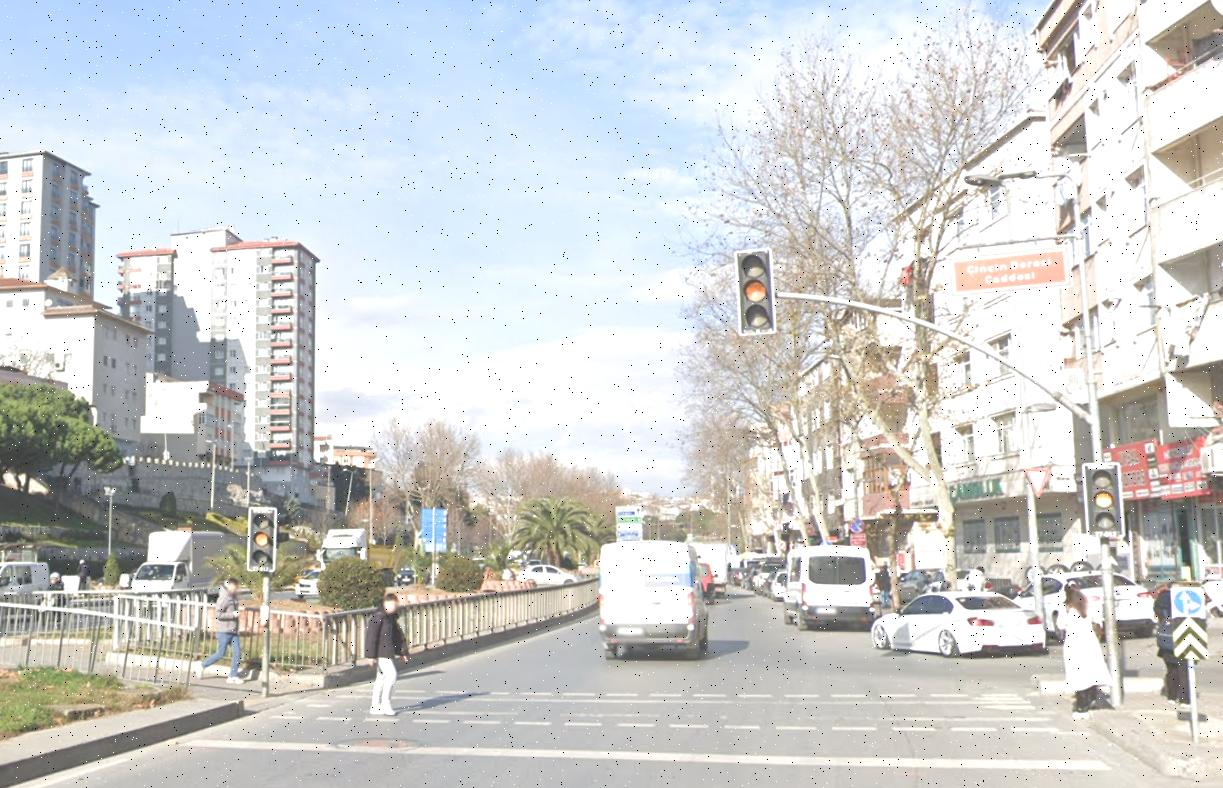yellowlight: (740, 252, 775, 328), (1089, 466, 1121, 530), (250, 509, 273, 566)
